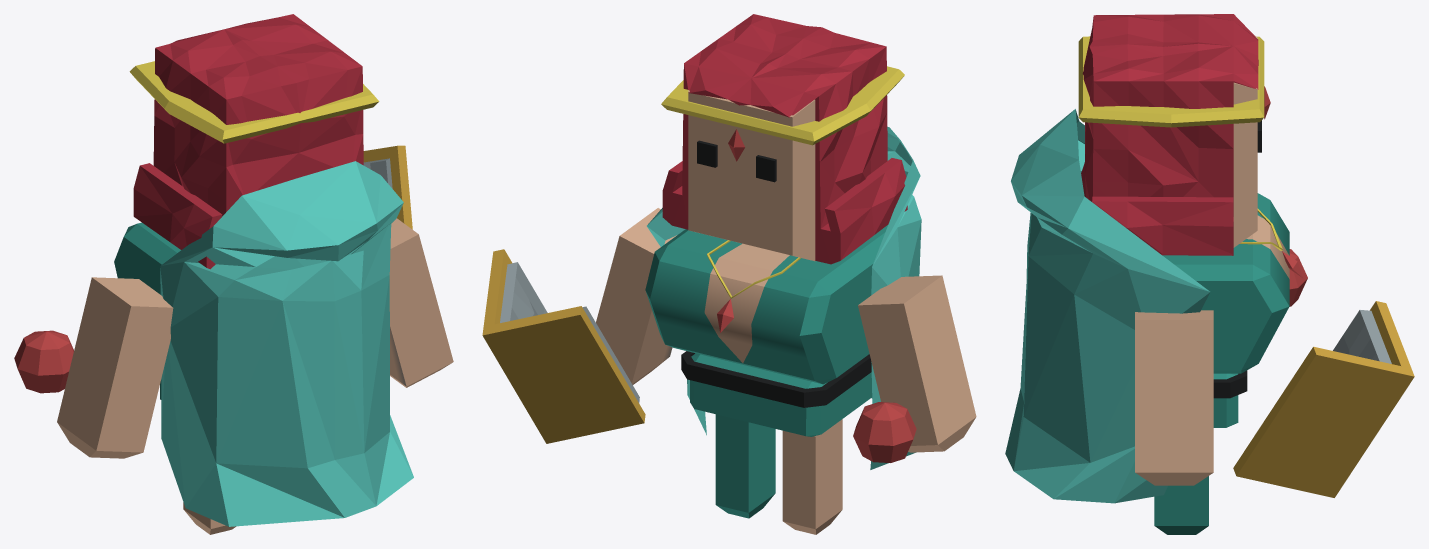
Rendered from Sorcerer.FBX.
3 renders of one model, left to right at view 1: azimuth 30°, elevation 25°; view 2: azimuth 150°, elevation 25°; view 3: azimuth 270°, elevation 25°, orthographic. The views are drawn at different scales.
Visible parts, largest first — view 1: Box001; view 2: Box001; view 3: Box001.
Boxes of the visible parts, x1=… form: Box001: x1=14, y1=14, x2=453, y2=534; Box001: x1=482, y1=14, x2=976, y2=534; Box001: x1=1005, y1=14, x2=1414, y2=534.
Size of the model in its own units: 19.87 by 22.01 by 17.29.
